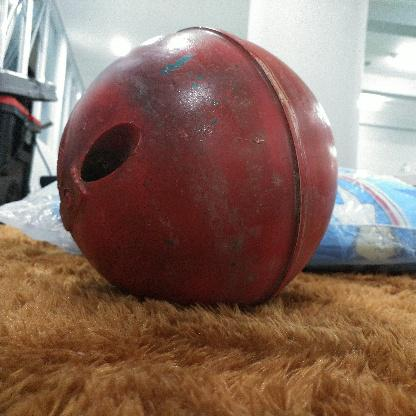red_buoy: (57, 26, 338, 308)
